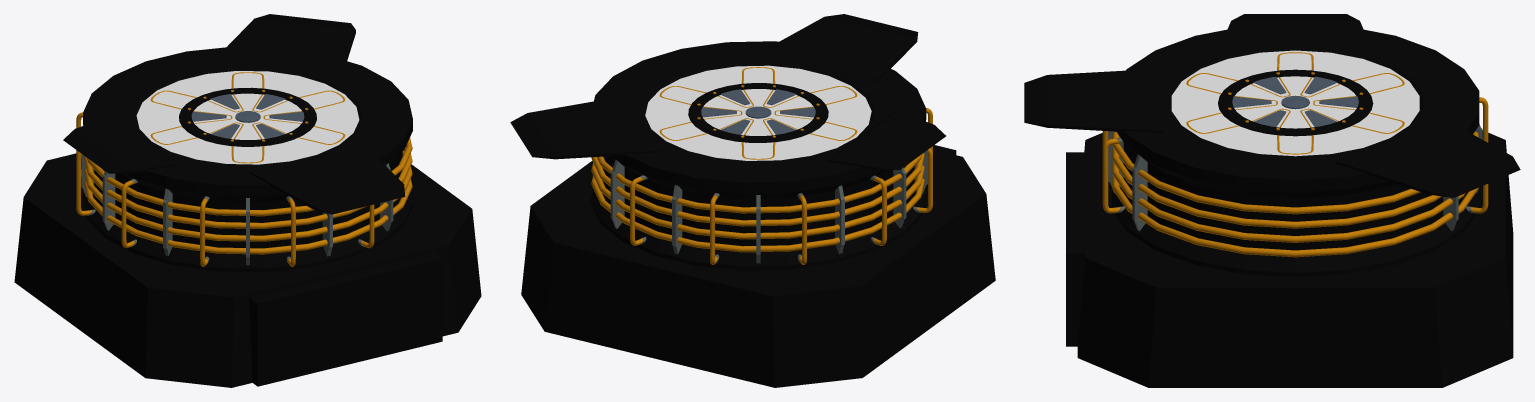
Rendered from CPU_Cooler_ScaleTest.fbx.
3 renders of one model, left to right at view 1: azimuth 30°, elevation 25°; view 2: azimuth 150°, elevation 25°; view 3: azimuth 270°, elevation 25°, orthographic. The views are drawn at different scales.
Visible parts, largest first — view 1: Cpu_Cooler; view 2: Cpu_Cooler; view 3: Cpu_Cooler.
Boxes of the visible parts, left/top/right/bottom form: Cpu_Cooler: left=14, top=14, right=481, bottom=387; Cpu_Cooler: left=510, top=14, right=995, bottom=387; Cpu_Cooler: left=1024, top=14, right=1520, bottom=387.
Size of the model in its own units: 0.9637 by 0.4706 by 1.08.
